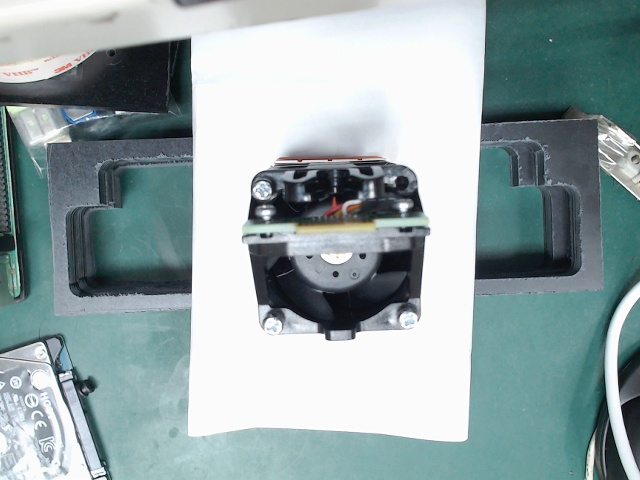Phase1_panel_screw_loose: (377, 194, 444, 252), (242, 201, 297, 248)
Phase1_screw_loose: (372, 300, 436, 350), (238, 302, 300, 352), (233, 161, 295, 206)
